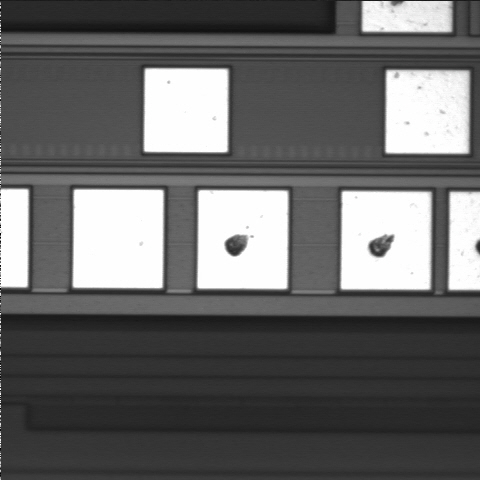pad: (198, 190, 288, 289), (341, 191, 431, 290), (73, 190, 163, 288), (144, 69, 228, 152), (386, 71, 468, 153)
